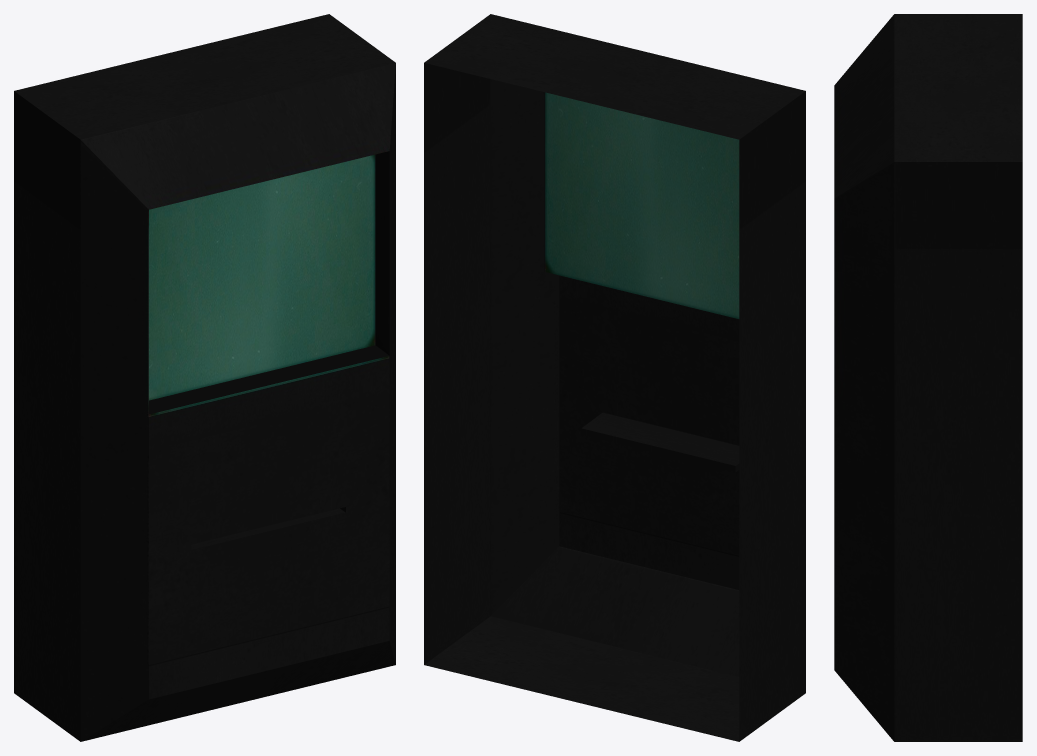
Rendered from KeycardReader.obj.
3 renders of one model, left to right at view 1: azimuth 30°, elevation 25°; view 2: azimuth 150°, elevation 25°; view 3: azimuth 270°, elevation 25°, orthographic. The views are drawn at different scales.
Visible parts, largest first — view 1: yavrbkbqzqr5; view 2: yavrbkbqzqr5; view 3: yavrbkbqzqr5.
Part boxes in pixels (left/top/right/bottom): yavrbkbqzqr5: left=14, top=14, right=395, bottom=741; yavrbkbqzqr5: left=424, top=14, right=805, bottom=741; yavrbkbqzqr5: left=834, top=14, right=1022, bottom=741.
Size of the model in its own units: 0.1482 by 0.2704 by 0.0797.
